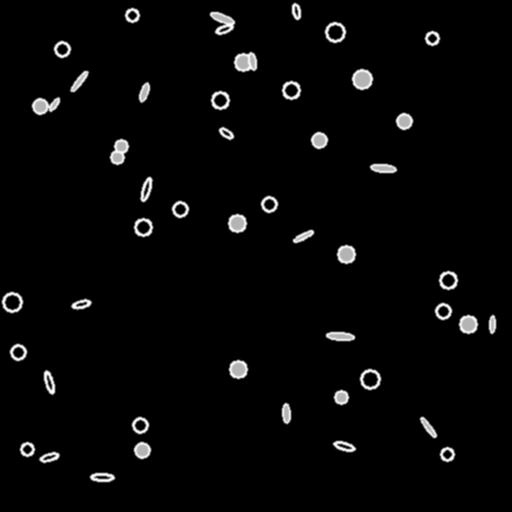pseudomonas: (419, 416, 437, 438), (70, 70, 88, 92), (210, 10, 234, 26), (139, 176, 153, 202), (42, 370, 56, 394), (293, 229, 313, 243), (333, 440, 355, 452), (138, 82, 150, 102), (218, 126, 234, 140), (215, 23, 233, 35), (327, 332, 353, 340), (39, 452, 59, 462), (48, 96, 60, 112), (371, 164, 395, 172), (247, 52, 257, 70), (72, 299, 90, 309), (291, 3, 301, 19), (282, 403, 290, 423), (91, 474, 113, 480), (489, 316, 495, 332)
synechocystis: (361, 370, 379, 388), (3, 293, 21, 311), (353, 70, 371, 88), (326, 23, 344, 41), (440, 272, 456, 288), (283, 82, 299, 98), (460, 316, 476, 332), (235, 54, 251, 70), (230, 361, 246, 377), (229, 215, 245, 231), (212, 92, 228, 108), (135, 219, 151, 235), (338, 246, 354, 262), (436, 304, 450, 318), (11, 345, 25, 359), (312, 133, 326, 147), (55, 42, 69, 56), (173, 202, 187, 216), (397, 114, 411, 128), (262, 197, 276, 211), (135, 443, 149, 457), (133, 418, 147, 432), (33, 99, 47, 113), (426, 32, 438, 44), (335, 391, 347, 403), (126, 9, 138, 21), (21, 443, 33, 455), (111, 151, 123, 163), (441, 448, 453, 460), (115, 140, 127, 152)
